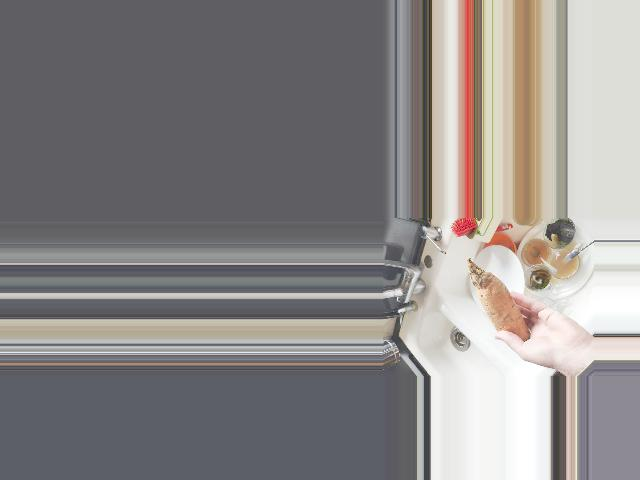sweet_potato: (466, 256, 534, 348)
